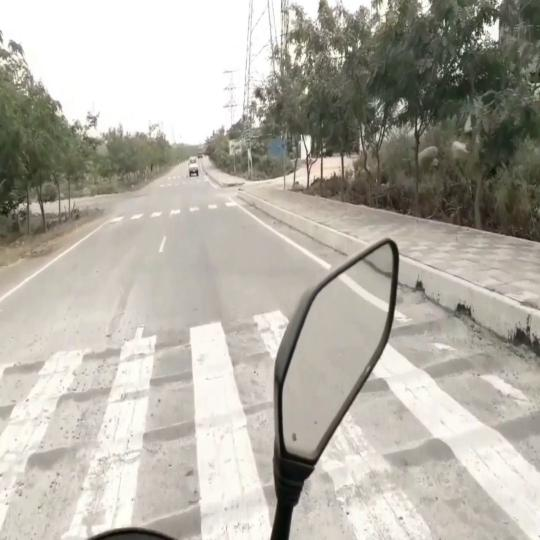Speed Bump: (1, 298, 276, 378), (0, 344, 273, 422), (1, 397, 273, 469), (356, 404, 540, 479), (154, 464, 272, 532), (390, 340, 508, 385), (395, 307, 450, 336)
